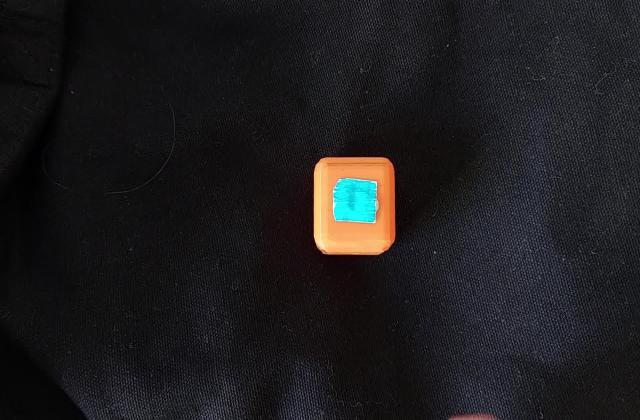blue: (342, 185, 371, 219)
sticker: (310, 153, 400, 260)
